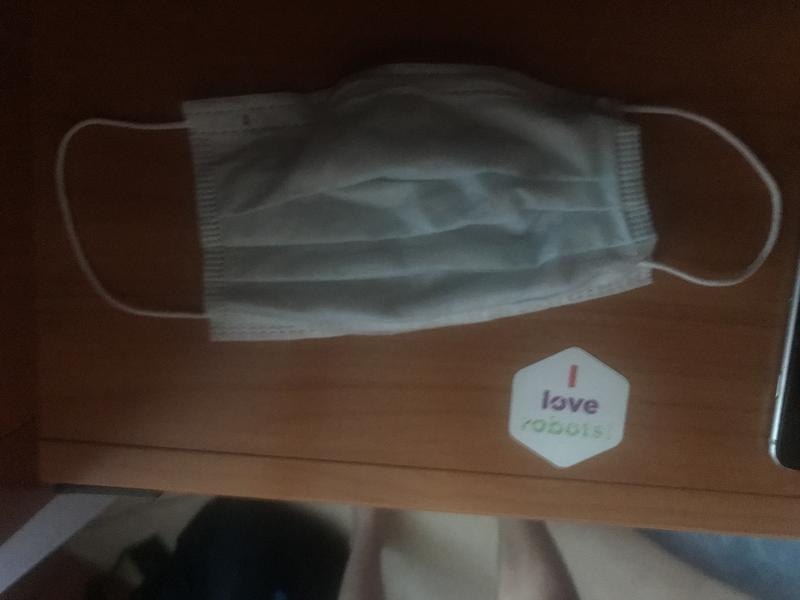medical_mask: (59, 64, 784, 337)
